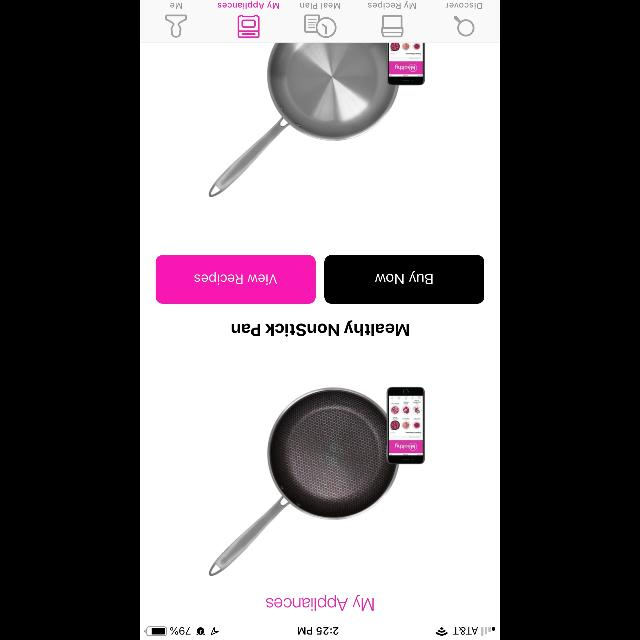icon: (304, 15, 336, 38), (165, 15, 187, 38), (454, 16, 474, 36)
image: (209, 386, 425, 576), (209, 43, 425, 197), (238, 16, 260, 38), (381, 15, 403, 37)
text: (232, 319, 408, 336), (266, 594, 374, 610), (218, 2, 280, 10), (368, 1, 416, 9), (446, 2, 482, 10), (300, 3, 340, 9), (170, 3, 182, 9)
textbutton: (324, 255, 484, 303), (156, 255, 316, 303)
uppertaskbar: (140, 626, 500, 640)
